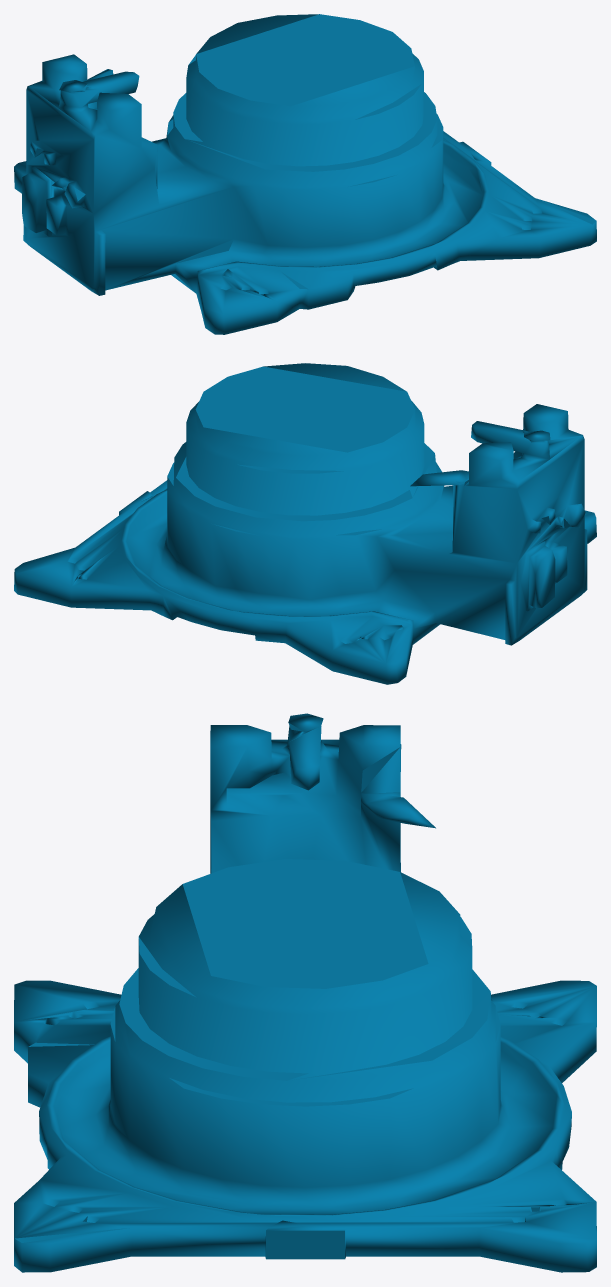
The picture shows the model from 3 angles, top to bottom: view 1: azimuth 30°, elevation 25°; view 2: azimuth 150°, elevation 25°; view 3: azimuth 270°, elevation 25°; orthographic projection. The views are drawn at different scales.
Visible parts, largest first — view 1: mh00215-j00_lk0; view 2: mh00215-j00_lk0; view 3: mh00215-j00_lk0.
Part boxes in pixels (left/top/right/bottom): mh00215-j00_lk0: left=14, top=14, right=596, bottom=334; mh00215-j00_lk0: left=14, top=363, right=596, bottom=684; mh00215-j00_lk0: left=14, top=713, right=596, bottom=1272.
Bounding box in the file's own units: 0.9257 × 0.7354 × 0.3651.
